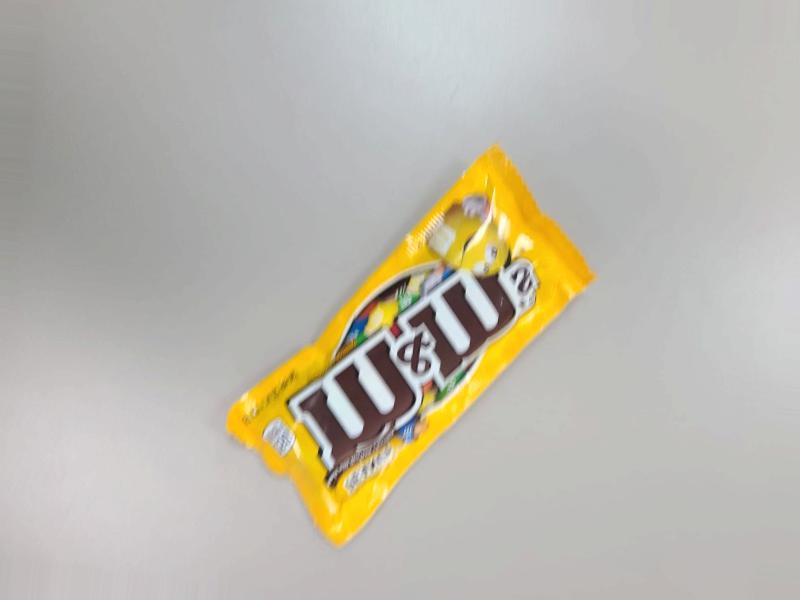m&m: (223, 131, 599, 557)
